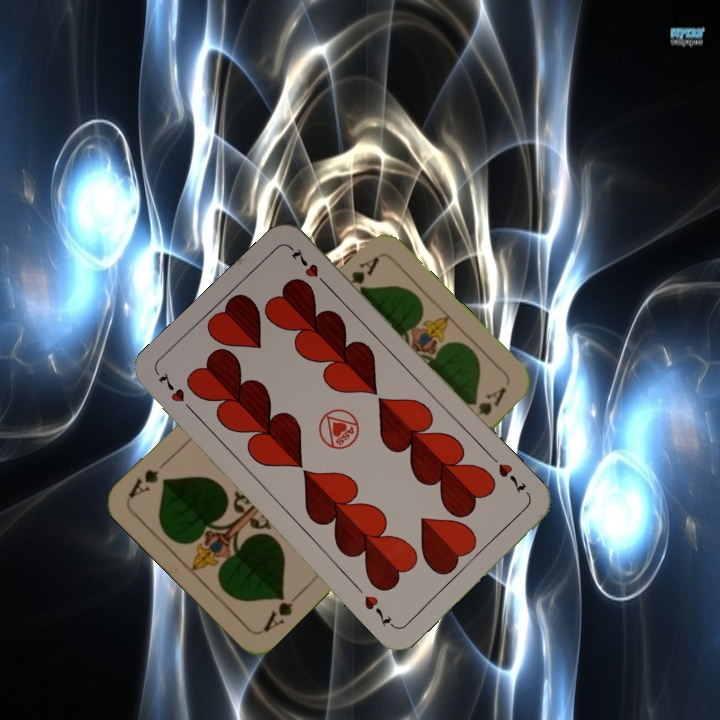GA: (259, 587, 305, 635), (347, 252, 382, 287)
H7: (154, 368, 198, 417), (494, 459, 529, 496)
